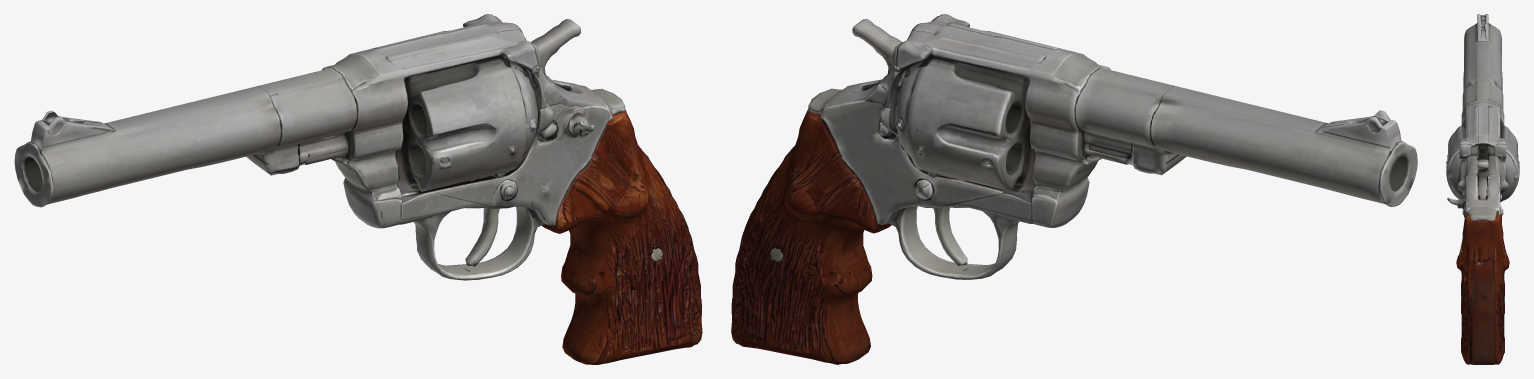
Rendered from revolver-handgun.glb.
The picture shows the model from 3 angles, left to right: view 1: azimuth 30°, elevation 25°; view 2: azimuth 150°, elevation 25°; view 3: azimuth 270°, elevation 25°; orthographic projection. The views are drawn at different scales.
Visible parts, largest first — view 1: tripo_node_19fe9d94-c604-4a89-bc9f-efa525386d8a; view 2: tripo_node_19fe9d94-c604-4a89-bc9f-efa525386d8a; view 3: tripo_node_19fe9d94-c604-4a89-bc9f-efa525386d8a.
Boxes of the visible parts, x1=… form: tripo_node_19fe9d94-c604-4a89-bc9f-efa525386d8a: x1=14, y1=14, x2=702, y2=364; tripo_node_19fe9d94-c604-4a89-bc9f-efa525386d8a: x1=731, y1=14, x2=1417, y2=364; tripo_node_19fe9d94-c604-4a89-bc9f-efa525386d8a: x1=1446, y1=14, x2=1519, y2=364.
Bounding box in the file's own units: 0.9756 × 0.525 × 0.1814.
Materials: 1 (1 with a texture image).
